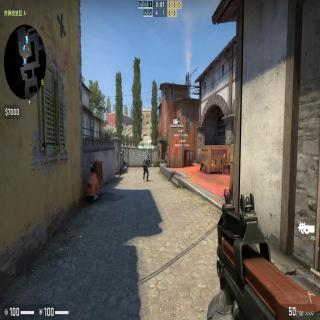CT-Body: (143, 153, 150, 181)
CT-Head: (146, 154, 149, 159)
